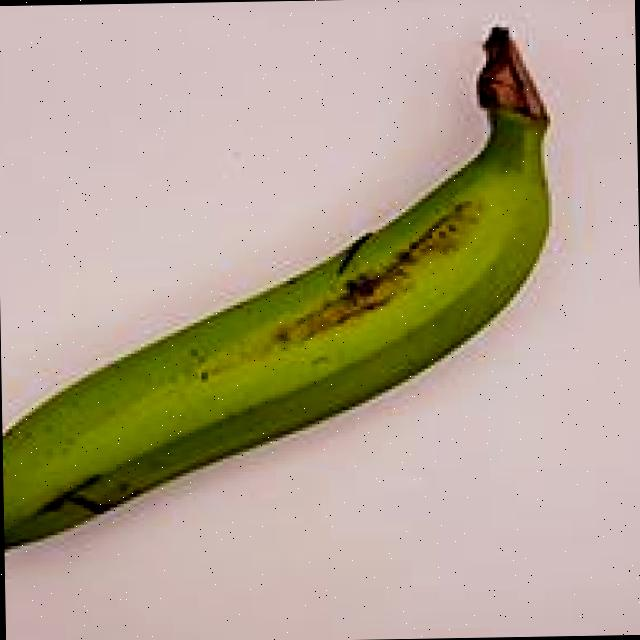Raw: (0, 15, 611, 589)
